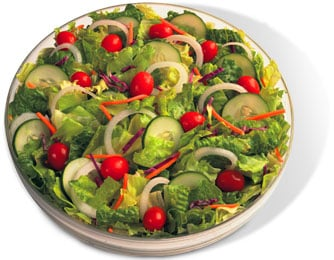sushi: (3, 1, 298, 250)
